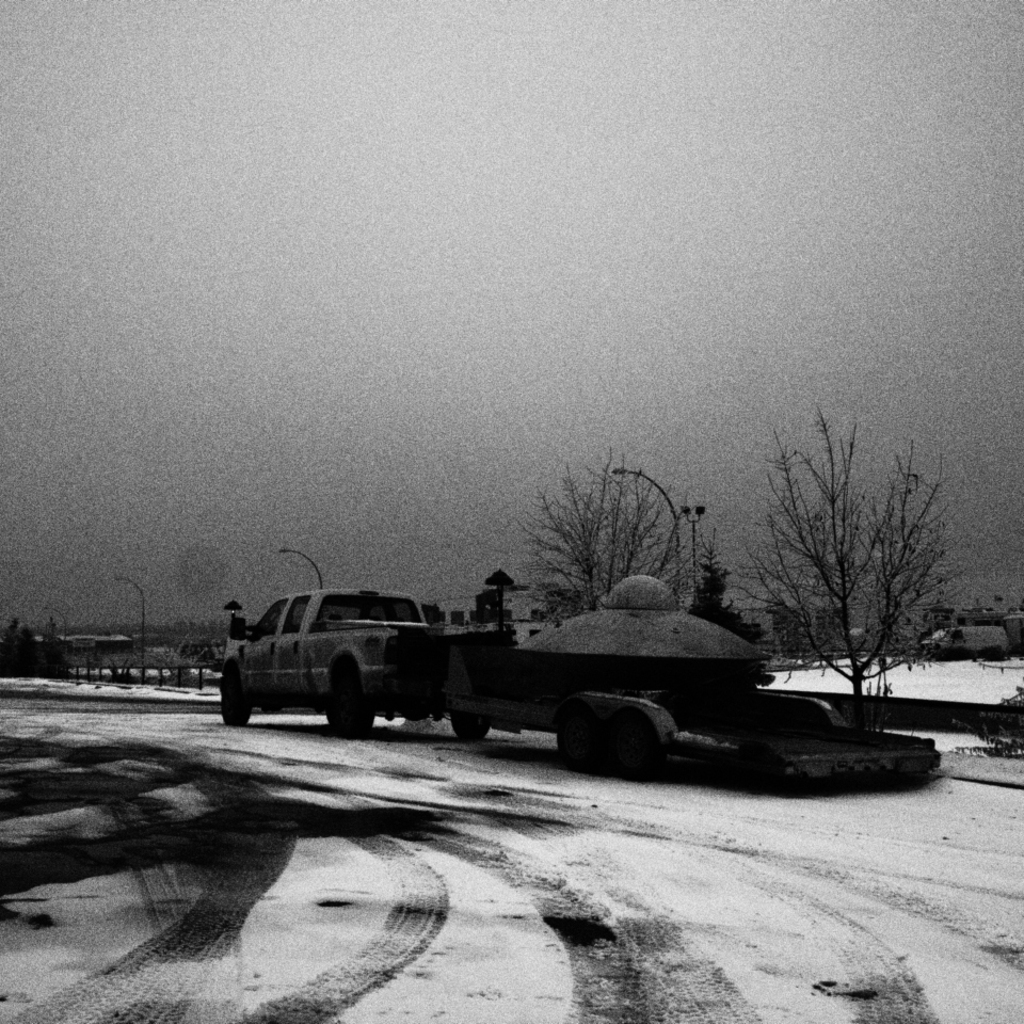car: (208, 563, 513, 767)
